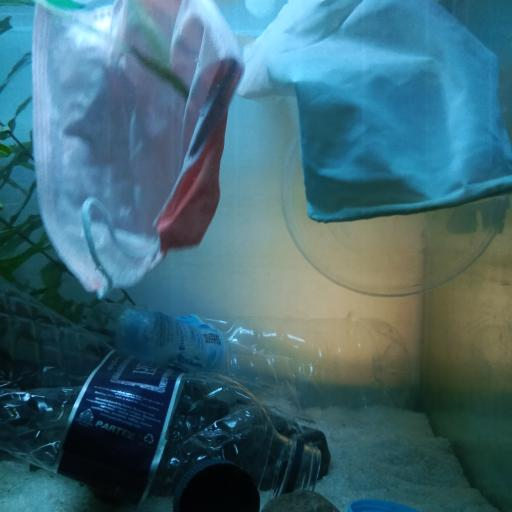bottle_cap: (172, 457, 261, 512), (350, 497, 418, 512)
glove: (245, 0, 511, 222)
mask: (34, 0, 244, 298)
plastic_bottle: (0, 278, 321, 499), (82, 303, 412, 429)
plastic_cup: (278, 124, 512, 299)
